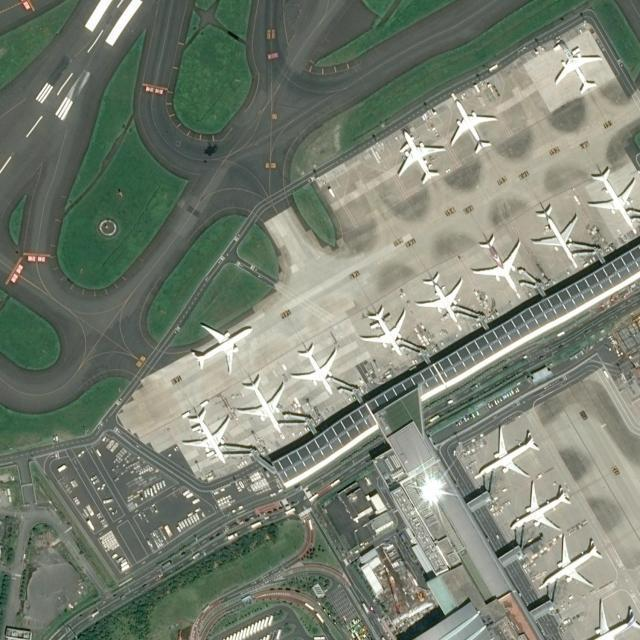Aircraft: (584, 167, 638, 231), (474, 426, 542, 476), (470, 236, 524, 296), (189, 320, 251, 372), (535, 539, 601, 587), (507, 481, 570, 531), (531, 204, 579, 265), (571, 598, 640, 640), (237, 377, 287, 433), (394, 129, 444, 183), (448, 98, 496, 154), (550, 43, 602, 94), (181, 412, 232, 464), (288, 344, 338, 395), (360, 307, 410, 357), (417, 274, 465, 326)
